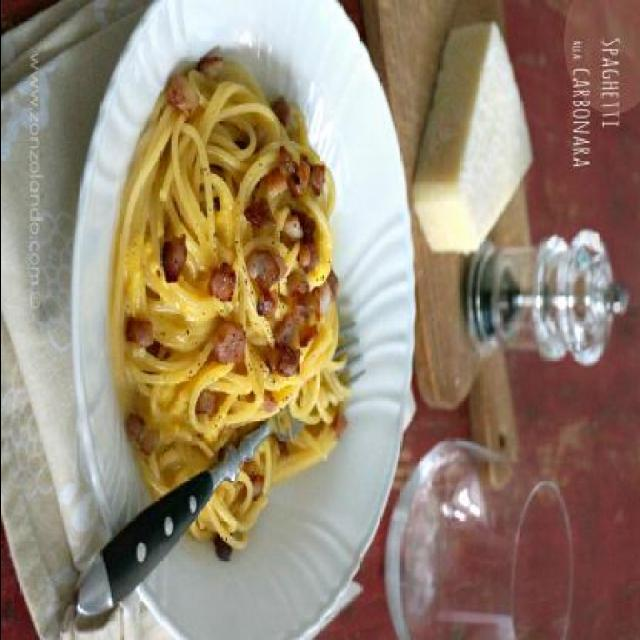Pasta with carbonara sauce: (65, 83, 393, 603)
